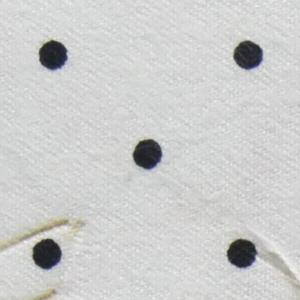Damage: (238, 222, 300, 294)
Oil Stain: (1, 214, 91, 300)
